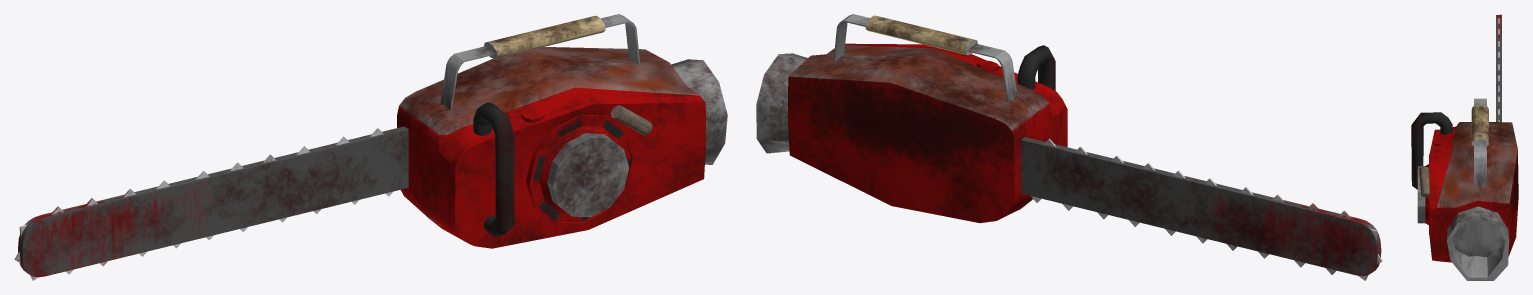
Rendered from chainsaw.glb.
3 renders of one model, left to right at view 1: azimuth 30°, elevation 25°; view 2: azimuth 150°, elevation 25°; view 3: azimuth 270°, elevation 25°, orthographic. The views are drawn at different scales.
Visible parts, largest first — view 1: Chainsaw__0; view 2: Chainsaw__0; view 3: Chainsaw__0.
Part boxes in pixels (box(x1,y1,x2,y2)): Chainsaw__0: box(14, 14, 727, 280); Chainsaw__0: box(756, 14, 1382, 280); Chainsaw__0: box(1411, 14, 1518, 280).
Bounding box in the file's own units: 37.96 × 9.68 × 8.02.
Materials: 1 (1 with a texture image).
